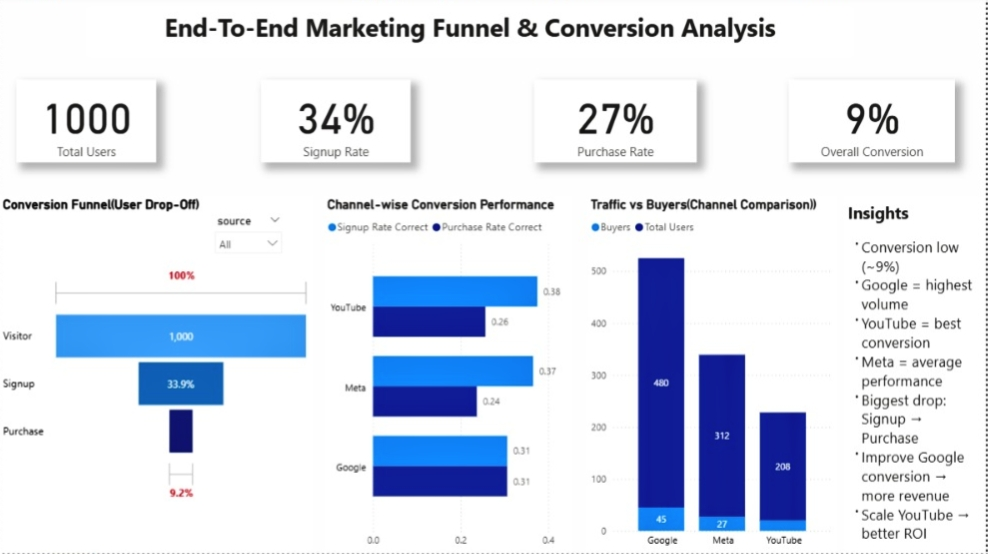

The dashboard page shown, as its layout file describes it:
{"tool":"powerbi","page":{"name":"Page 1","canvas":[1280,720],"ordinal":0},"visuals":[{"type":"card","fields":{"Values":["funnel_raw_data_v_v2.Total Users"]},"box":[22.7,108.5,181.4,106.9],"z":0},{"type":"card","fields":{"Values":["funnel_raw_data_v_v2.Signup Rate"]},"box":[340,108.5,194.3,106.9],"z":1000},{"type":"card","fields":{"Values":["funnel_raw_data_v_v2.Purchase Rate"]},"box":[694.6,108.5,210.5,106.9],"z":2000},{"type":"card","fields":{"Values":["funnel_raw_data_v_v2.Overall Conversion"]},"box":[1025,108.5,215.4,106.9],"z":3000},{"type":"funnel","title":"Conversion Funnel(User Drop-Off)","fields":{"Category":["funnel_raw_data_v_v2.stage"],"Y":["Count(funnel_raw_data_v_v2.user_id)"]},"box":[0,259.1,408,461.5],"z":4000},{"type":"clusteredBarChart","title":"Channel-wise Conversion Performance","fields":{"Category":["funnel_raw_data_v_v2.source"],"Y":["funnel_raw_data_v_v2.Signup Rate Correct","funnel_raw_data_v_v2.Purchase Rate Correct"]},"box":[421,259.1,323.8,461.5],"z":5000},{"type":"columnChart","title":"Traffic vs Buyers(Channel Comparison))","fields":{"Category":["funnel_raw_data_v_v2.source"],"Y":["funnel_raw_data_v_v2.Buyers","funnel_raw_data_v_v2.Total Users"]},"box":[762.7,259.1,323.8,461.5],"z":6000},{"type":"textbox","box":[1096.2,259.1,183,461.5],"z":7000},{"type":"textbox","box":[113.3,13,995.8,68],"z":9000},{"type":"slicer","fields":{"Values":["funnel_raw_data_v_v2.source"]},"box":[270.4,276.9,106.9,59.9],"z":10000}]}

Visuals, with their boxes in screenshot pixels (x1, y1, x2, y2), scaled from the page's 1280x720 canvas onto the 988x554 screenshot:
card - funnel_raw_data_v_v2.Total Users: 18/83/158/166
card - funnel_raw_data_v_v2.Signup Rate: 262/83/412/166
card - funnel_raw_data_v_v2.Purchase Rate: 536/83/699/166
card - funnel_raw_data_v_v2.Overall Conversion: 791/83/957/166
"Conversion Funnel(User Drop-Off)" funnel: 0/199/315/553
"Channel-wise Conversion Performance" clusteredBarChart: 325/199/575/553
"Traffic vs Buyers(Channel Comparison))" columnChart: 589/199/839/553
textbox: 846/199/987/553
textbox: 87/10/856/62
slicer - funnel_raw_data_v_v2.source: 209/213/291/259
